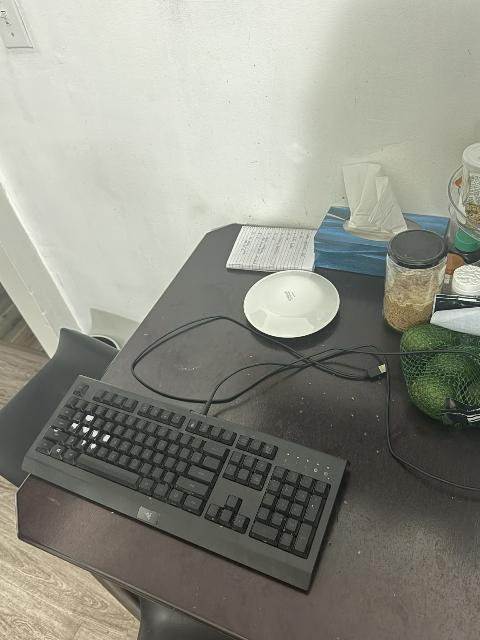ahkeyboard: (17, 366, 352, 600)
